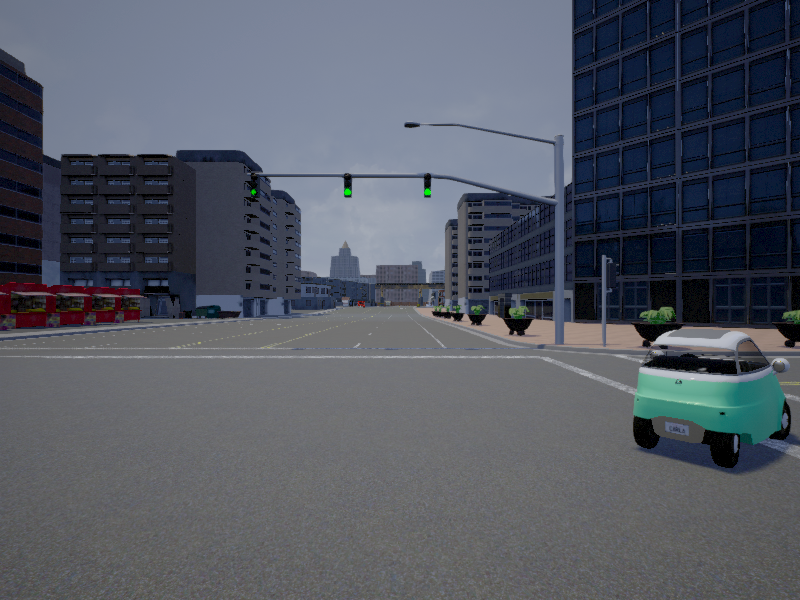Benign: (632, 326, 791, 470)
